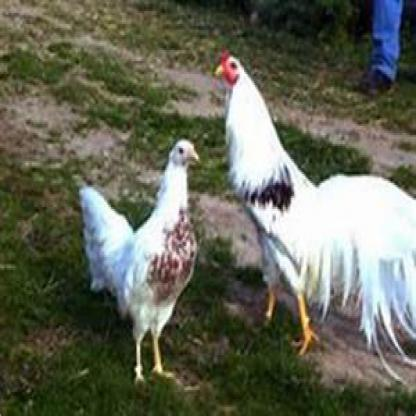chicken: (214, 44, 414, 355), (80, 140, 201, 381)
